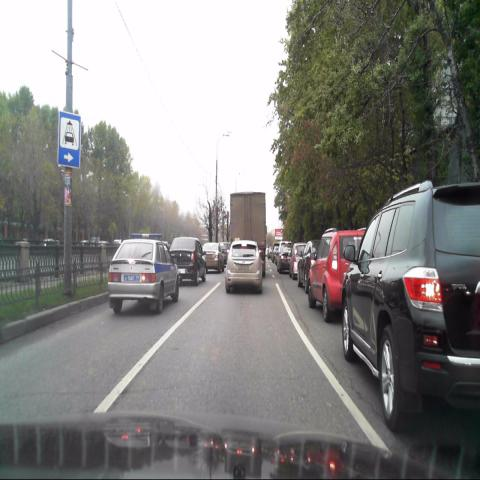7_5: (58, 110, 82, 170)
